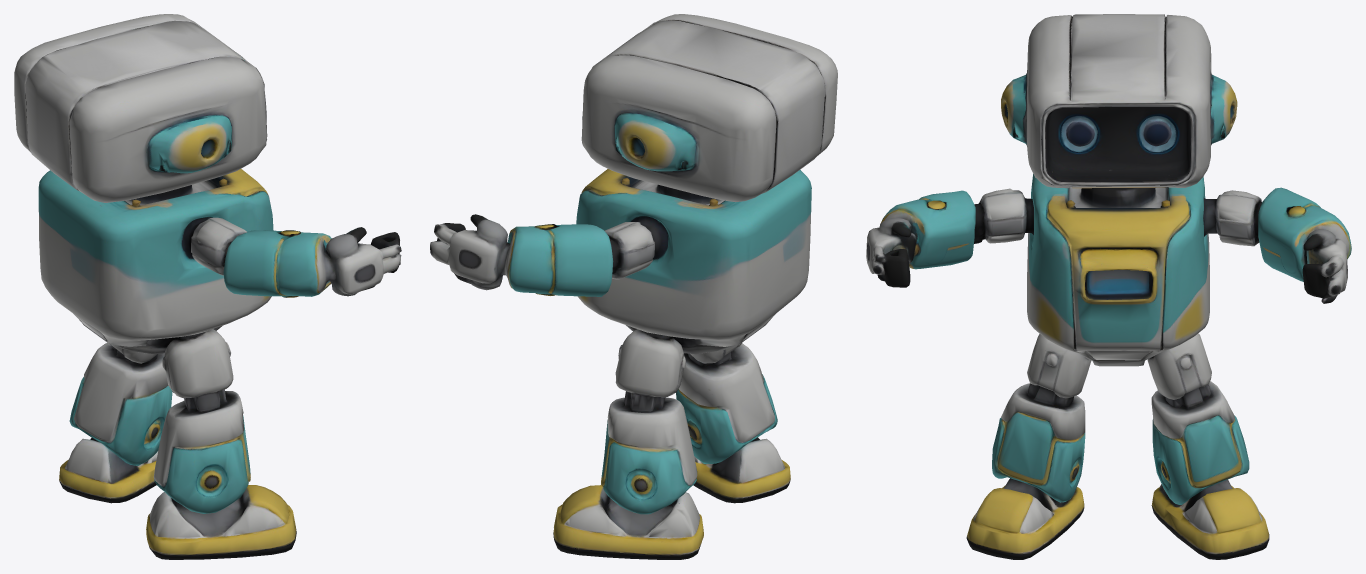
The model's file is r33-robot.glb.
3 views of the same model, side by side, from view 1: azimuth 30°, elevation 25°; view 2: azimuth 150°, elevation 25°; view 3: azimuth 270°, elevation 25° (orthographic).
Parts seen in each view (by area): view 1: tripo_node_15c9ebcd-302f-49eb-971c-57ad86ecd688; view 2: tripo_node_15c9ebcd-302f-49eb-971c-57ad86ecd688; view 3: tripo_node_15c9ebcd-302f-49eb-971c-57ad86ecd688.
Boxes of the visible parts, left/top/right/bottom form: tripo_node_15c9ebcd-302f-49eb-971c-57ad86ecd688: left=14, top=14, right=401, bottom=559; tripo_node_15c9ebcd-302f-49eb-971c-57ad86ecd688: left=430, top=14, right=837, bottom=559; tripo_node_15c9ebcd-302f-49eb-971c-57ad86ecd688: left=866, top=14, right=1351, bottom=559.
Size of the model in its own units: 0.5957 by 0.998 by 0.9434.
1 material, 1 textured.
